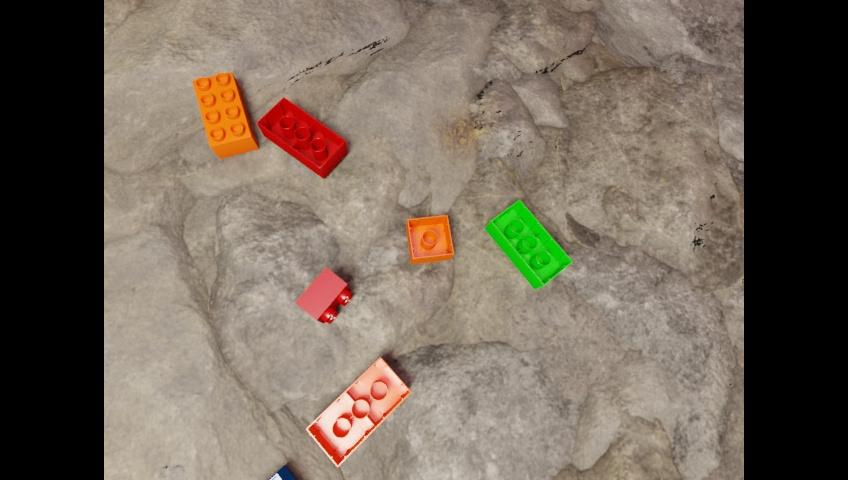2x2_orange: (406, 214, 453, 264)
2x2_red: (295, 267, 351, 323)
4x2_green: (484, 199, 571, 289)
4x2_orange: (306, 356, 410, 467), (192, 71, 257, 158)
4x2_red: (256, 96, 347, 178)
